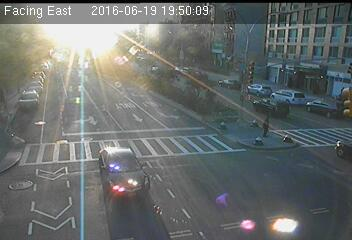neg: (105, 150, 126, 178), (135, 178, 148, 196)
pos: (256, 111, 278, 142)
